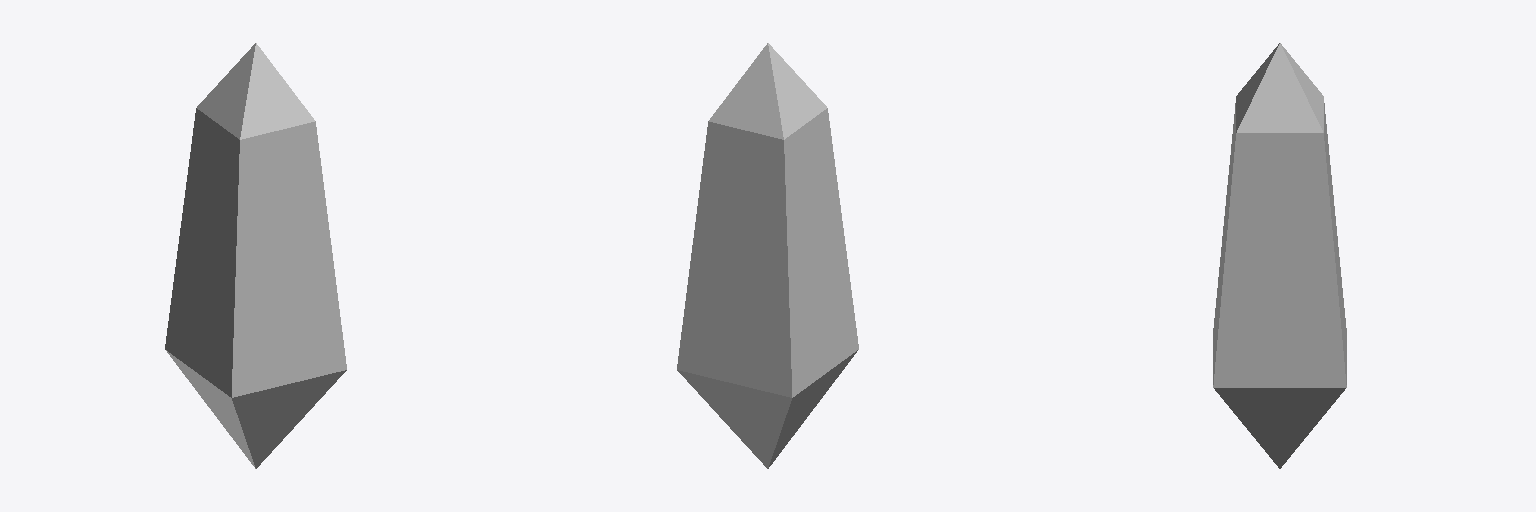
Rendered from Crystal.obj.
The picture shows the model from 3 angles: view 1: azimuth 30°, elevation 25°; view 2: azimuth 150°, elevation 25°; view 3: azimuth 270°, elevation 25°; orthographic projection.
Parts seen in each view (by area): view 1: Cube_Cube.001; view 2: Cube_Cube.001; view 3: Cube_Cube.001.
Boxes of the visible parts, x1,y1,x2,y2 form: Cube_Cube.001: [165, 43, 346, 468]; Cube_Cube.001: [677, 43, 858, 468]; Cube_Cube.001: [1213, 43, 1346, 468].
Bounding box in the file's own units: 1.07 × 3.79 × 1.07.